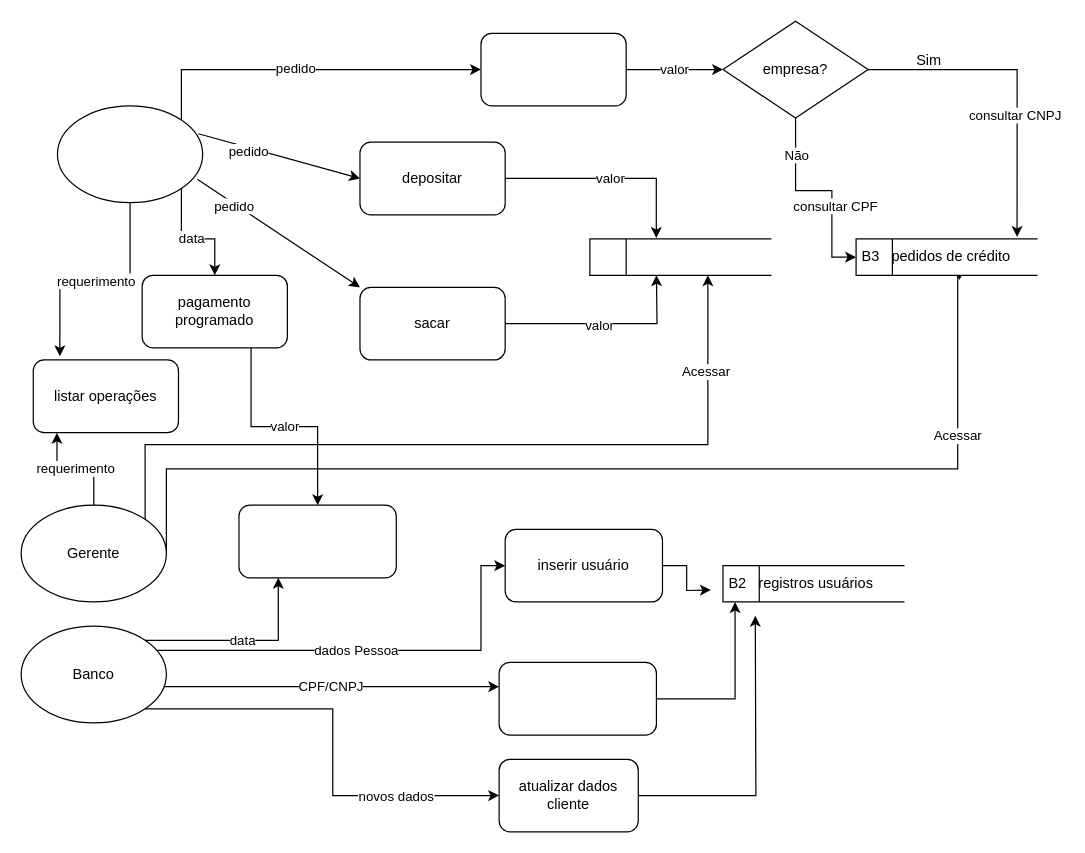
This 1085x853 diagram has some shape labels left out. Here are the shapes that lost their labels. From the top down, the box of each, then its label:
(480, 32, 626, 106): solicitar crédito
(56, 105, 203, 203): Usuário
(589, 238, 771, 275): B1 histórico usuário
(238, 504, 396, 578): atualizar pagamentos
(498, 661, 656, 735): remover usuário
